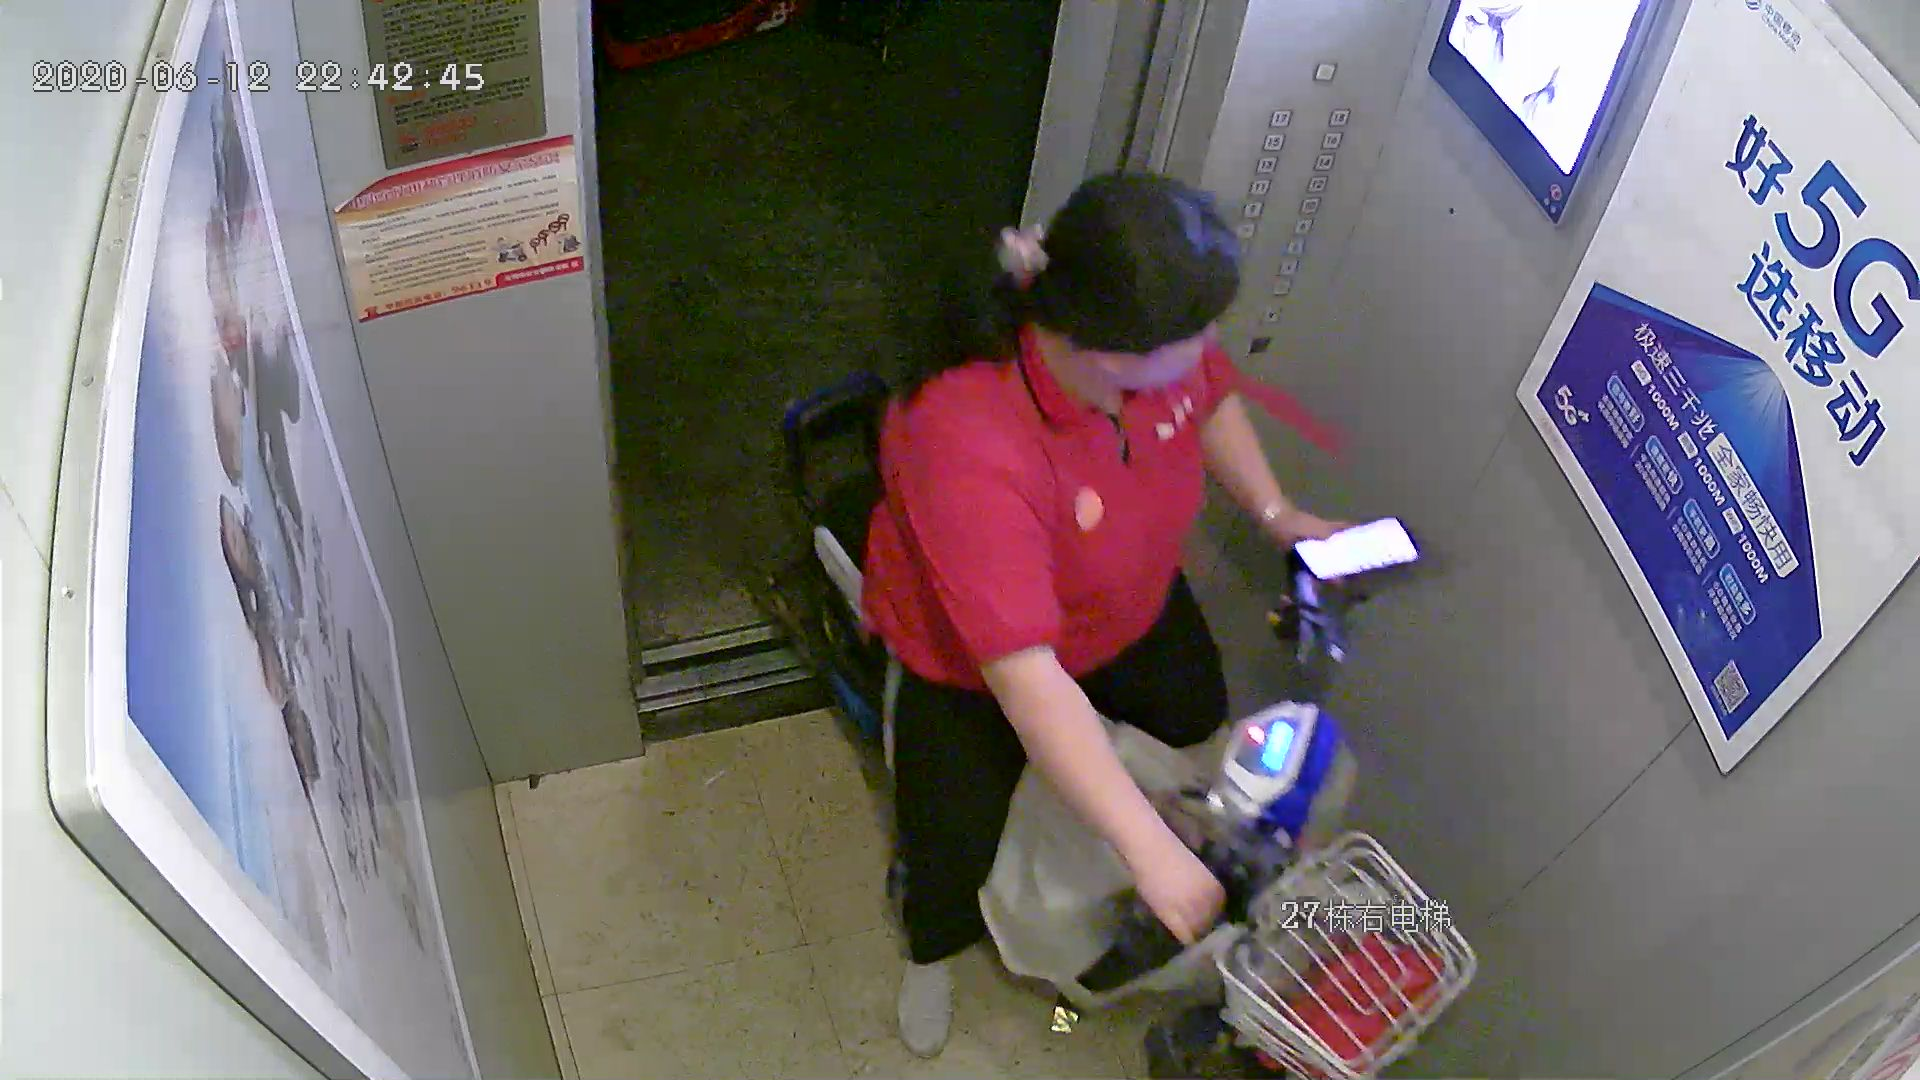Electric-bicycle: (793, 401, 1356, 920)
